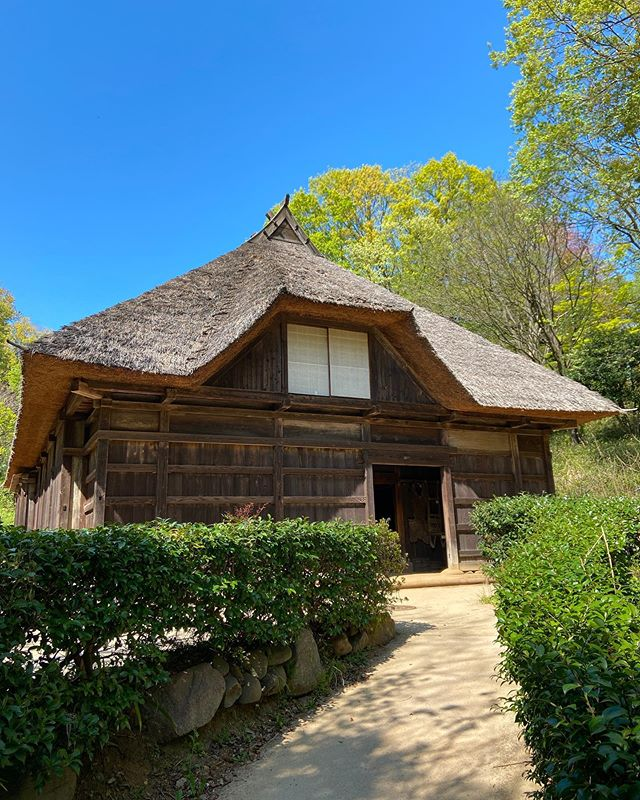building: (48, 207, 548, 583)
sky: (1, 1, 499, 310)
tree: (316, 153, 640, 535), (492, 5, 639, 252)
vegetation: (1, 526, 383, 783), (487, 504, 640, 792)
